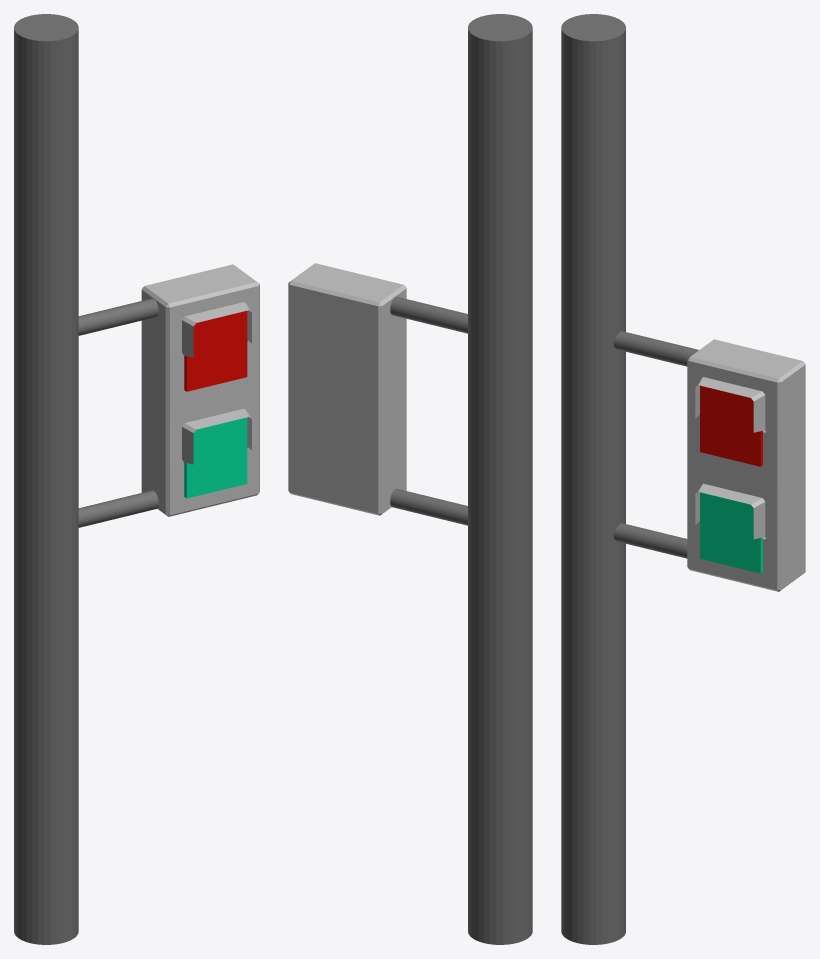
Rendered from traffic-light2.fbx.
The picture shows the model from 3 angles, left to right: view 1: azimuth 30°, elevation 25°; view 2: azimuth 150°, elevation 25°; view 3: azimuth 330°, elevation 25°; orthographic projection.
Parts seen in each view (by area): view 1: 円柱.007, 立方体, 立方体.002, 立方体.001, 円柱.006, 円柱.001; view 2: 円柱.007, 立方体, 円柱.001, 円柱.006; view 3: 円柱.007, 立方体, 立方体.001, 立方体.002, 円柱.006, 円柱.001.
Boxes of the visible parts, x1,y1,x2,y2 form: 円柱.007: [14, 14, 78, 944]; 立方体: [141, 264, 259, 516]; 立方体.002: [184, 417, 247, 498]; 立方体.001: [184, 310, 247, 391]; 円柱.006: [78, 298, 158, 335]; 円柱.001: [78, 490, 158, 527]; 円柱.007: [468, 14, 532, 944]; 立方体: [288, 263, 406, 515]; 円柱.001: [390, 488, 467, 525]; 円柱.006: [390, 296, 467, 333]; 円柱.007: [561, 14, 625, 944]; 立方体: [687, 339, 805, 591]; 立方体.001: [700, 385, 762, 466]; 立方体.002: [700, 492, 762, 573]; 円柱.006: [613, 331, 698, 366]; 円柱.001: [613, 523, 687, 558].
Size of the model in its own units: 0.5081 by 1.92 by 0.1499.
